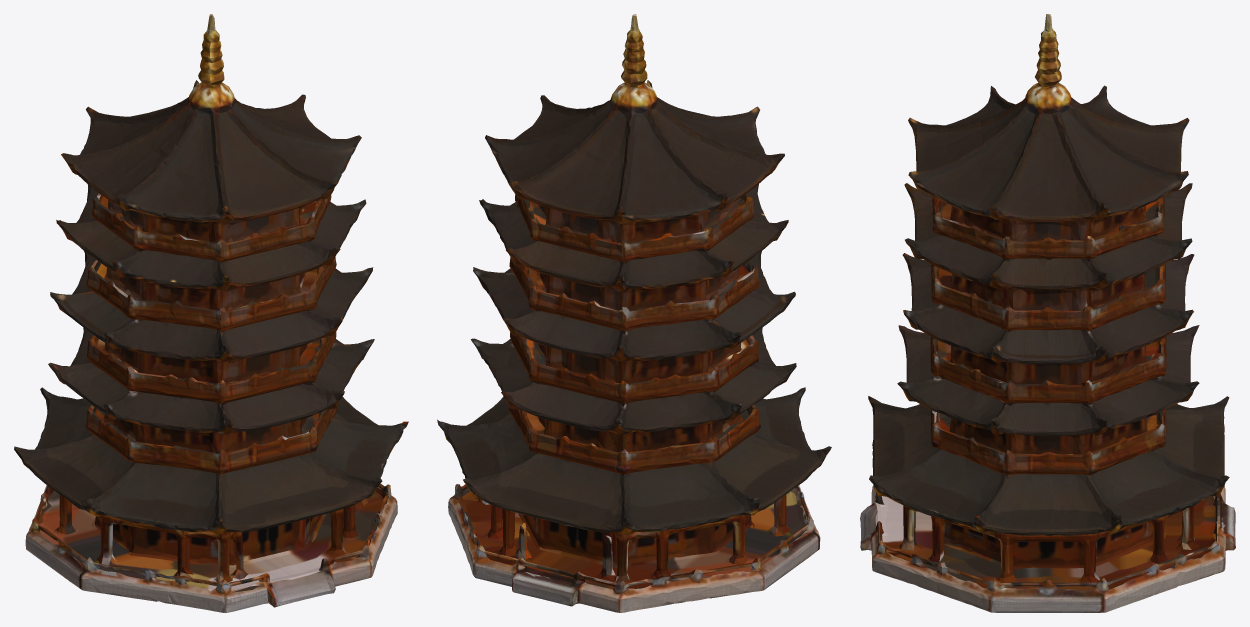
File: mdl_pagoda_001.glb
The picture shows the model from 3 angles, left to right: view 1: azimuth 30°, elevation 25°; view 2: azimuth 150°, elevation 25°; view 3: azimuth 270°, elevation 25°; orthographic projection.
Visible parts, largest first — view 1: tmpc5hexosn.ply; view 2: tmpc5hexosn.ply; view 3: tmpc5hexosn.ply.
Part boxes in pixels (x1,y1,x2,y2): tmpc5hexosn.ply: (14,14,408,612); tmpc5hexosn.ply: (437,14,831,612); tmpc5hexosn.ply: (860,14,1235,612).
Size of the model in its own units: 0.6458 by 0.9875 by 0.6444.
Materials: 1 (1 with a texture image).
